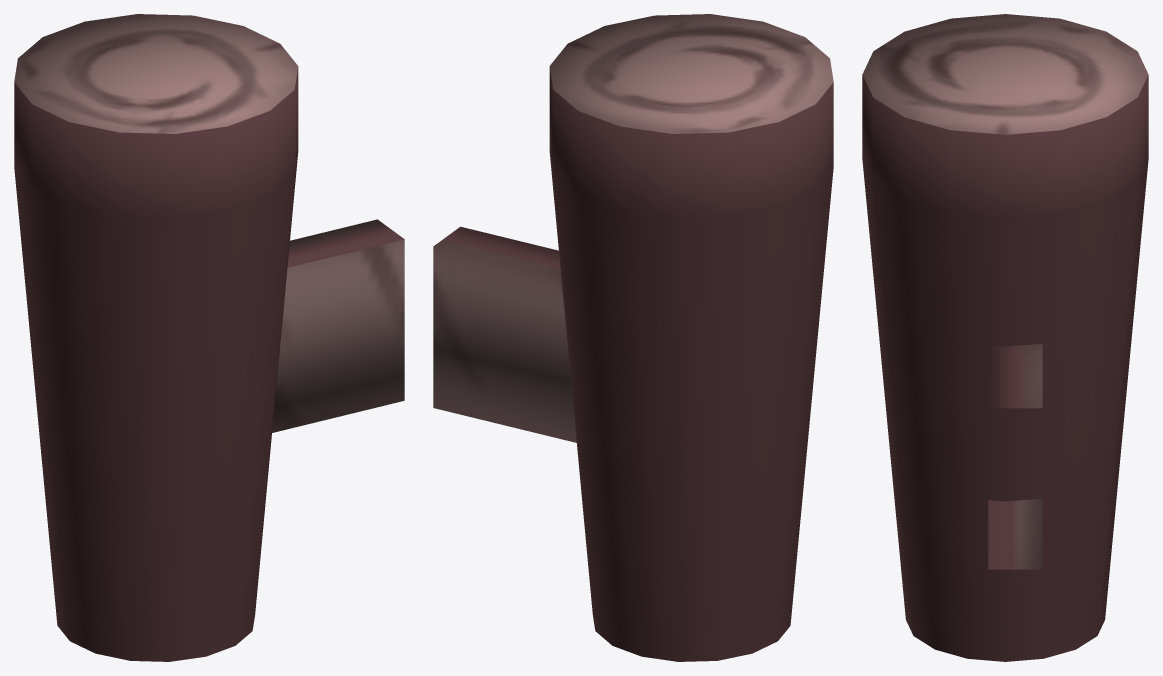
File: Cerca_1_2.fbx
3 views of the same model, side by side, from view 1: azimuth 30°, elevation 25°; view 2: azimuth 150°, elevation 25°; view 3: azimuth 270°, elevation 25° (orthographic).
Visible parts, largest first — view 1: Cylinder; view 2: Cylinder; view 3: Cylinder.
Boxes of the visible parts, x1,y1,x2,y2 form: Cylinder: (14, 14, 404, 661); Cylinder: (433, 14, 833, 661); Cylinder: (862, 14, 1148, 661).
Size of the model in its own units: 79.22 by 54.02 by 114.
